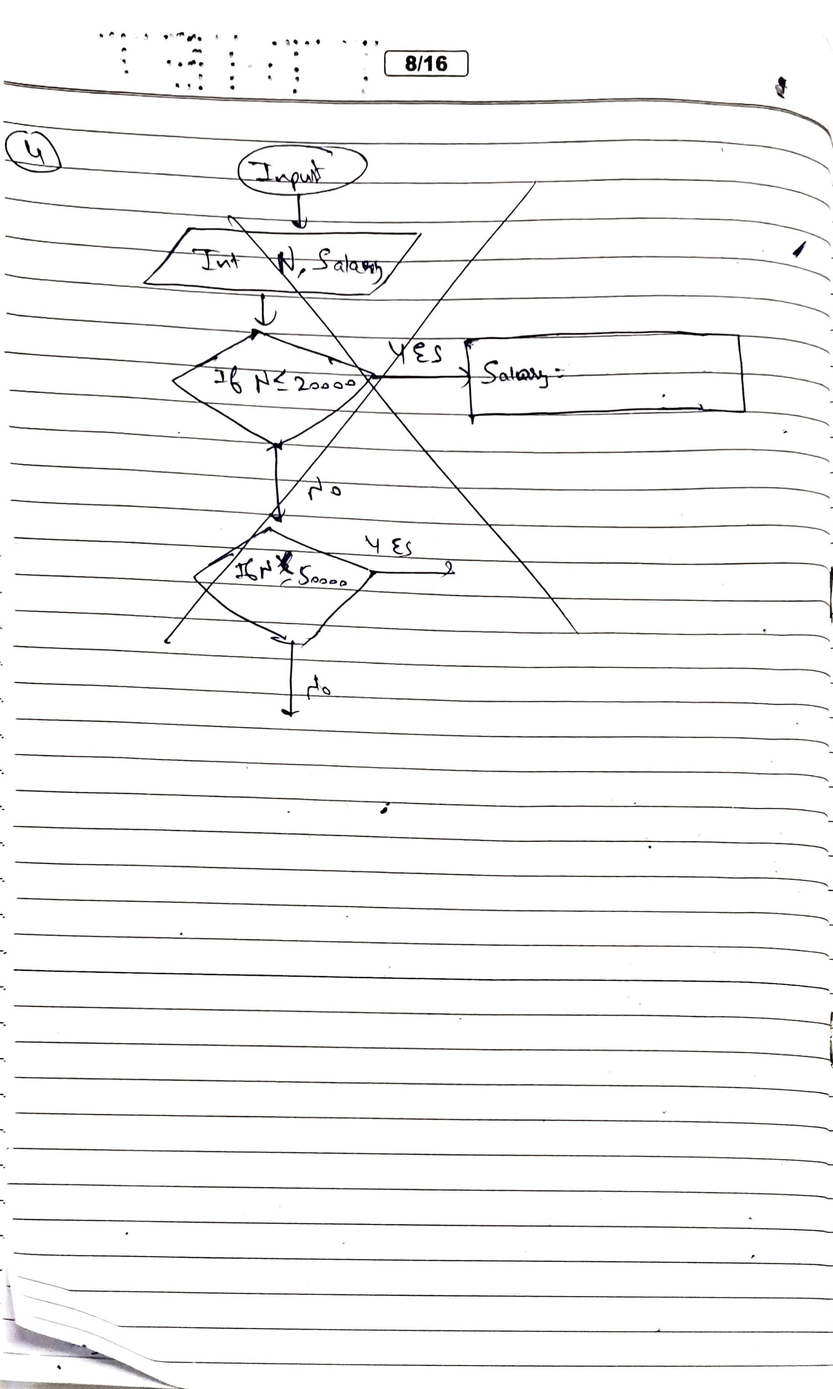cuttings: (135, 142, 749, 719)
